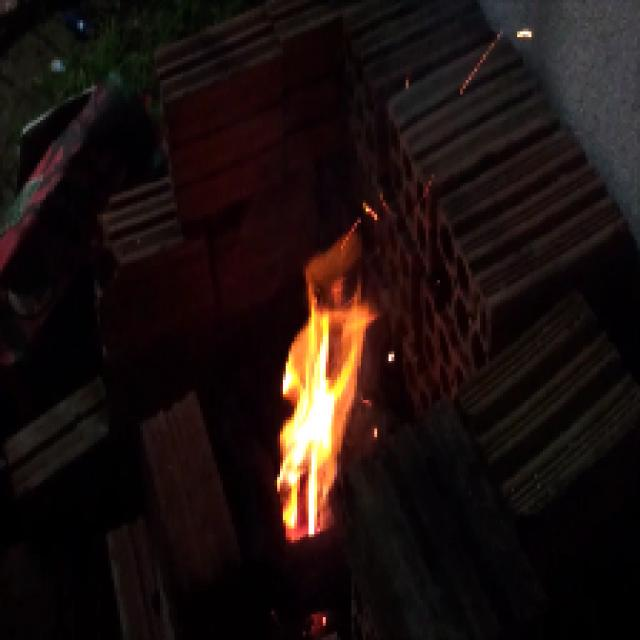fire: (274, 255, 372, 532)
